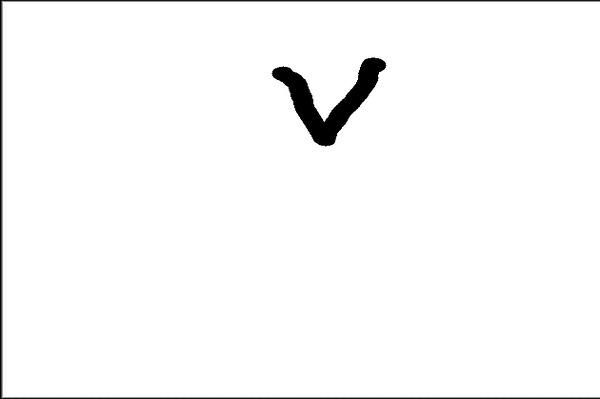V: (255, 43, 395, 143)
